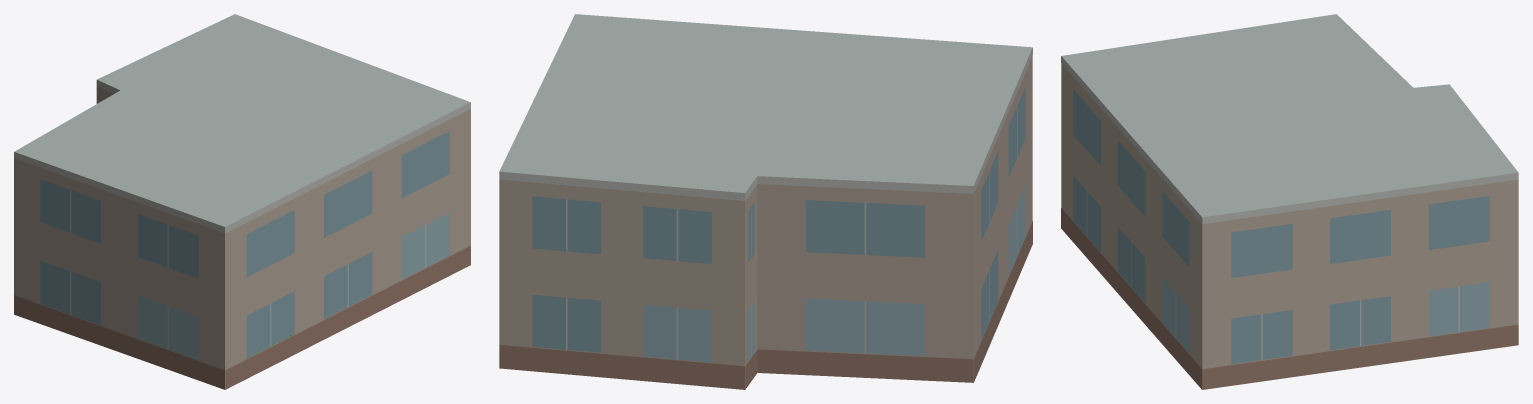
Rendered from survey-upis-32834472.glb.
The picture shows the model from 3 angles, left to right: view 1: azimuth 30°, elevation 25°; view 2: azimuth 150°, elevation 25°; view 3: azimuth 270°, elevation 25°; orthographic projection. The views are drawn at different scales.
Parts seen in each view (by area): view 1: survey-upis-32834472.tmp; view 2: survey-upis-32834472.tmp; view 3: survey-upis-32834472.tmp.
Boxes of the visible parts, x1,y1,x2,y2 form: survey-upis-32834472.tmp: (14,14,470,389); survey-upis-32834472.tmp: (499,14,1032,389); survey-upis-32834472.tmp: (1061,14,1518,389).
Bounding box in the file's own units: 15.43 × 6.1 × 14.67.
